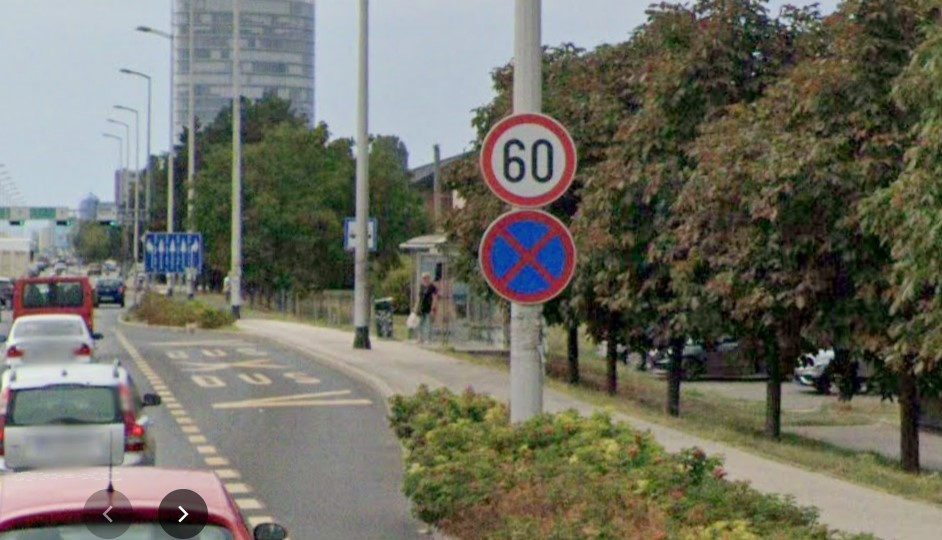Ograničenje brzine 60: (480, 112, 577, 208)
